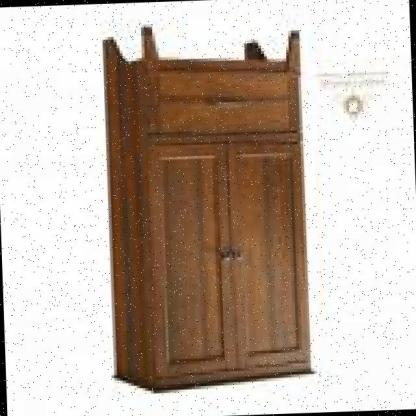Closet: (94, 15, 324, 400)
